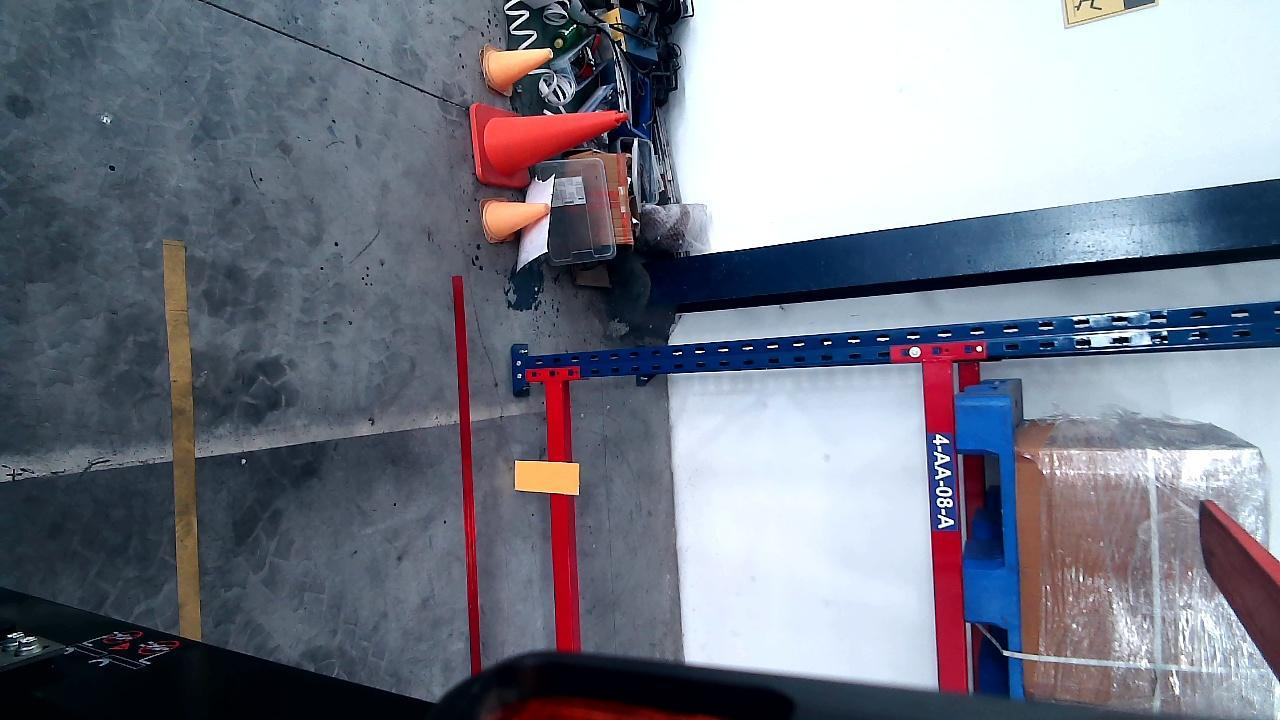red_line: (447, 274, 477, 675)
yellow_line: (169, 234, 203, 648)
